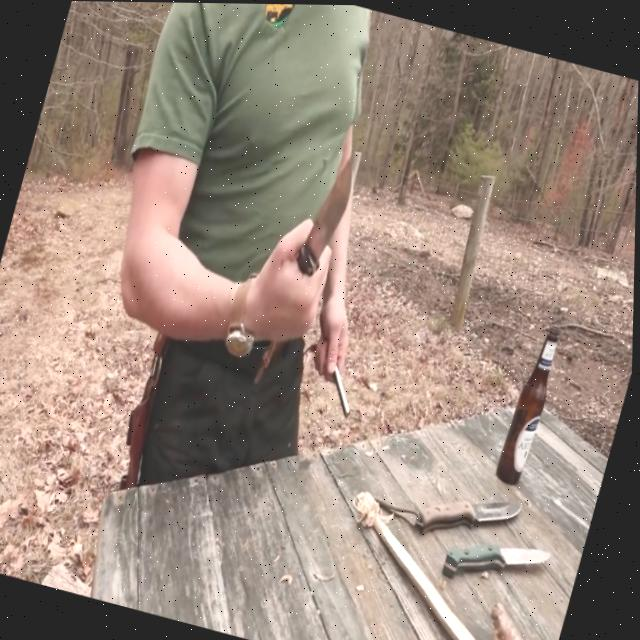knife: (413, 469, 525, 557), (442, 515, 555, 598), (294, 148, 359, 272)
